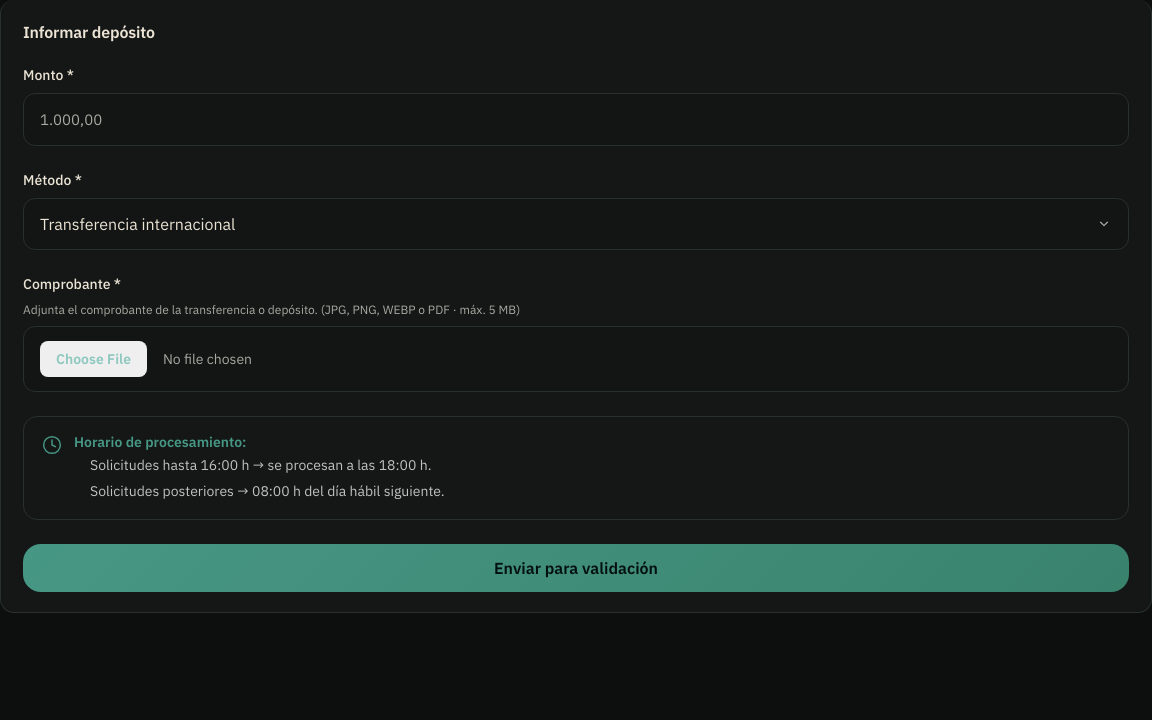
Test: DepositForm › validates attachment required for non-cash methods
This screenshot has width=1152, height=720.
Type "500" into the number field labelled "Monto *". click: (576, 119)
box: [23,93,1129,146]
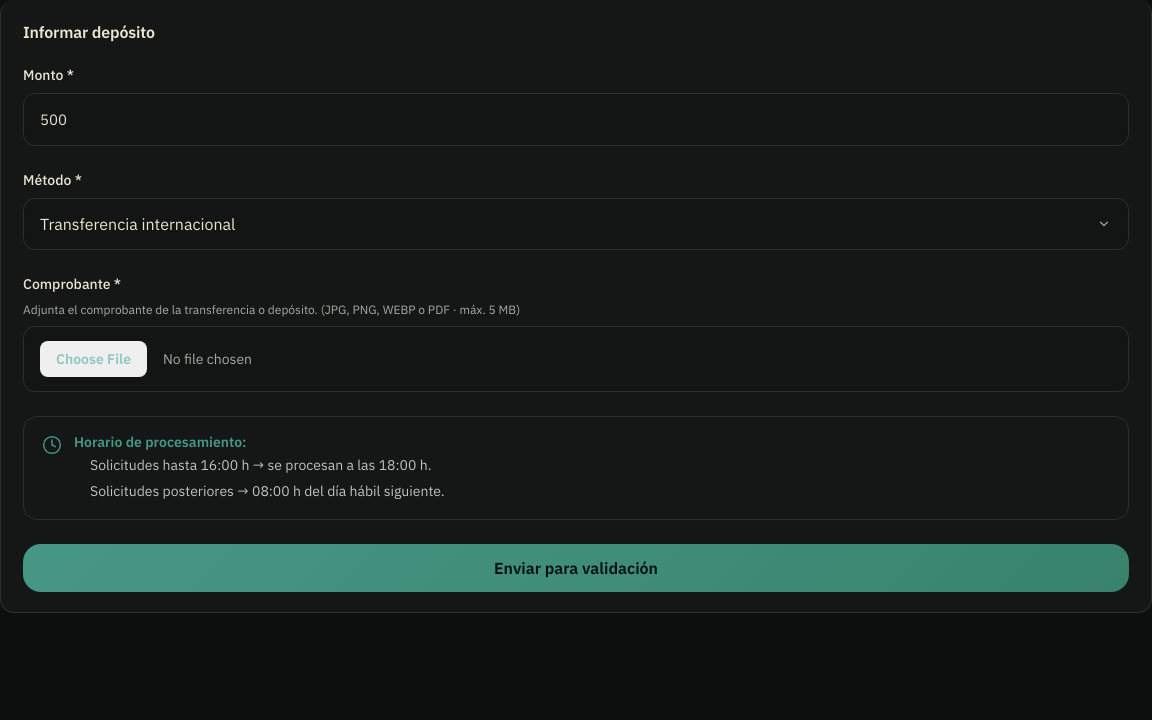
Submit the form
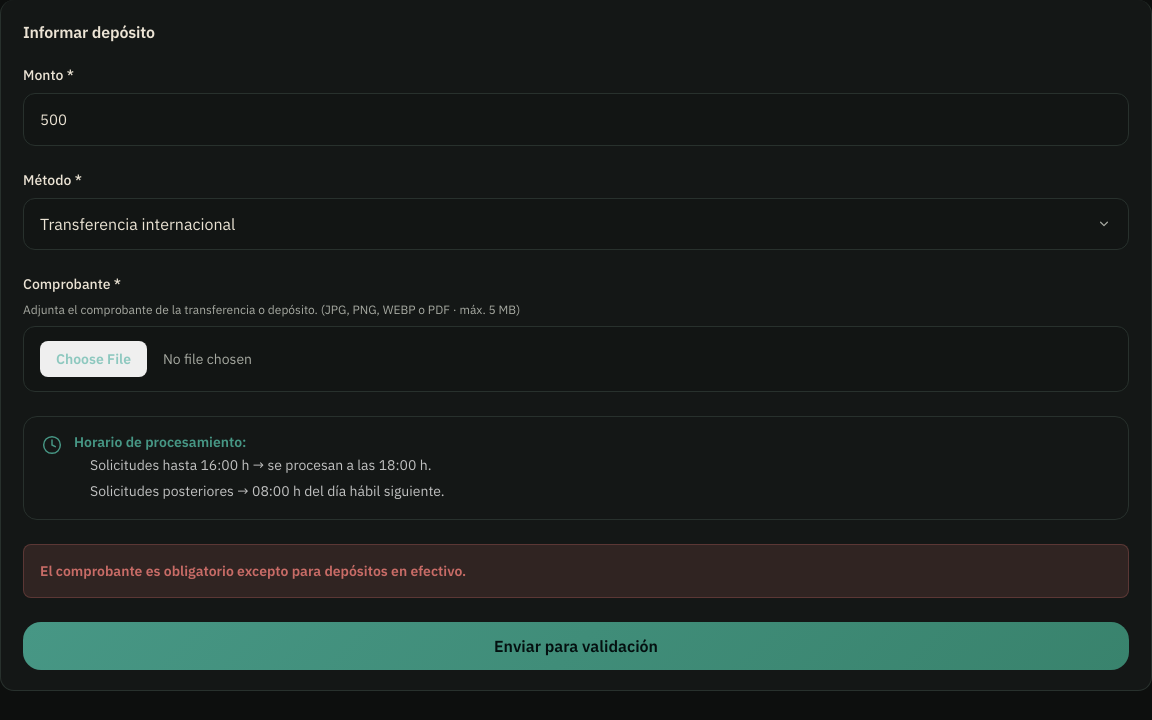
Now the message shows "comprobante es obligatorio", box [40,562,466,580]
